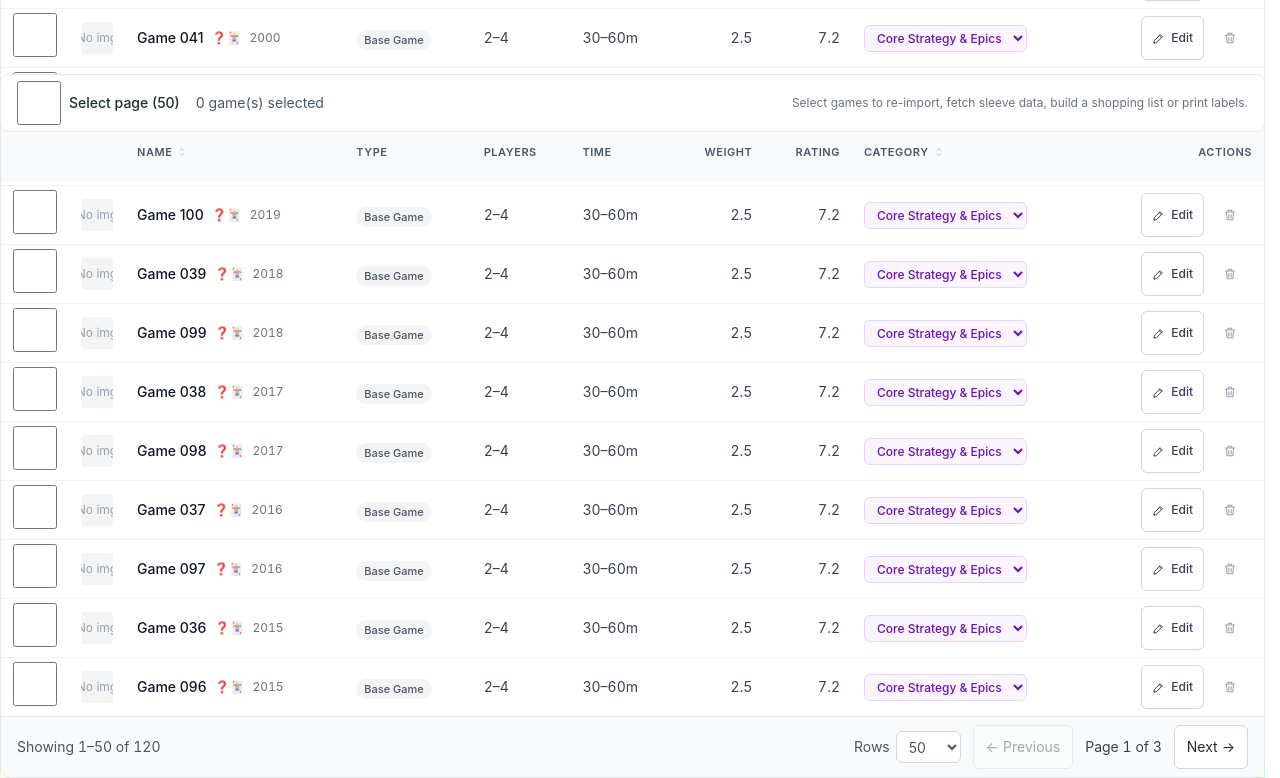
Scenario: ManageLibraryTab desktop features › rows-per-page selector changes the page size
The width and height of the screenshot is (1280, 778).
(page scrolled)
Expected: the text "Page 1 of 3" is shown, [1085, 737, 1162, 757]
Select "100" in the dropdown named "Rows per page" at [928, 747], box [896, 731, 961, 763]
(page scrolled)
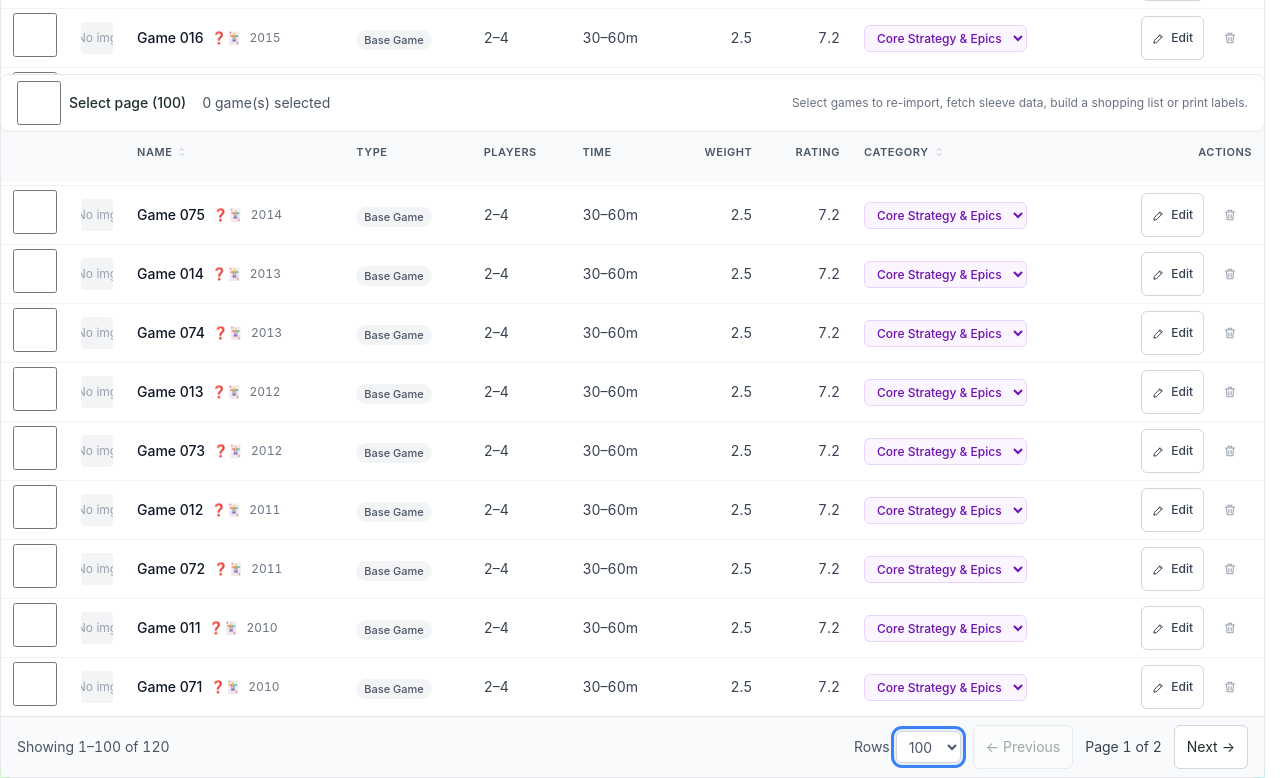
Expected: the text "Page 1 of 2" is shown, [1085, 737, 1162, 757]
